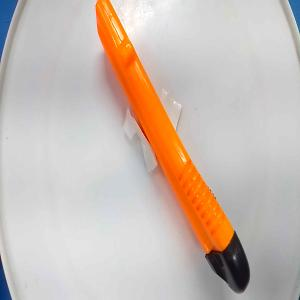estilete: (94, 0, 253, 294)
